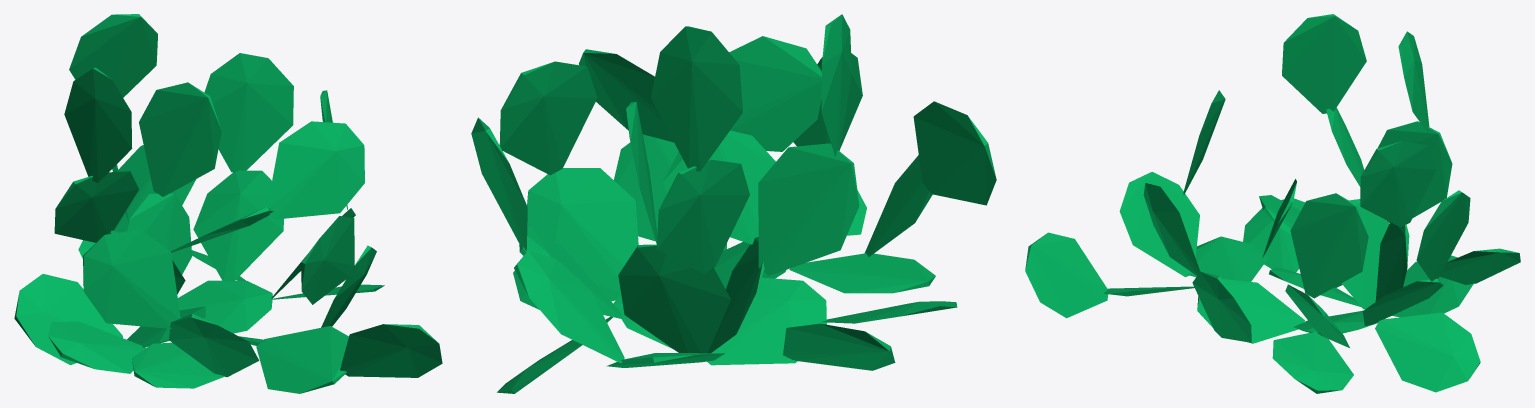
The model's file is PricklyPearCactus_LOD1.fbx.
3 renders of one model, left to right at view 1: azimuth 30°, elevation 25°; view 2: azimuth 150°, elevation 25°; view 3: azimuth 270°, elevation 25°, orthographic. The views are drawn at different scales.
Parts seen in each view (by area): view 1: PricklyPearCactus_LOD1; view 2: PricklyPearCactus_LOD1; view 3: PricklyPearCactus_LOD1.
Boxes of the visible parts, x1,y1,x2,y2 form: PricklyPearCactus_LOD1: (14,14,442,393); PricklyPearCactus_LOD1: (471,14,996,393); PricklyPearCactus_LOD1: (1025,14,1520,393).
Size of the model in its own units: 174 by 113 by 128.
